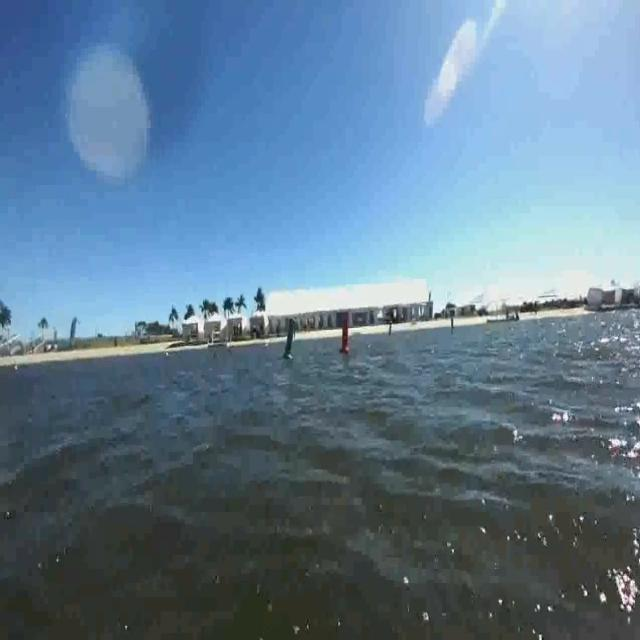green-column-buoy: (283, 309, 297, 368)
red-column-buoy: (340, 314, 354, 356)
